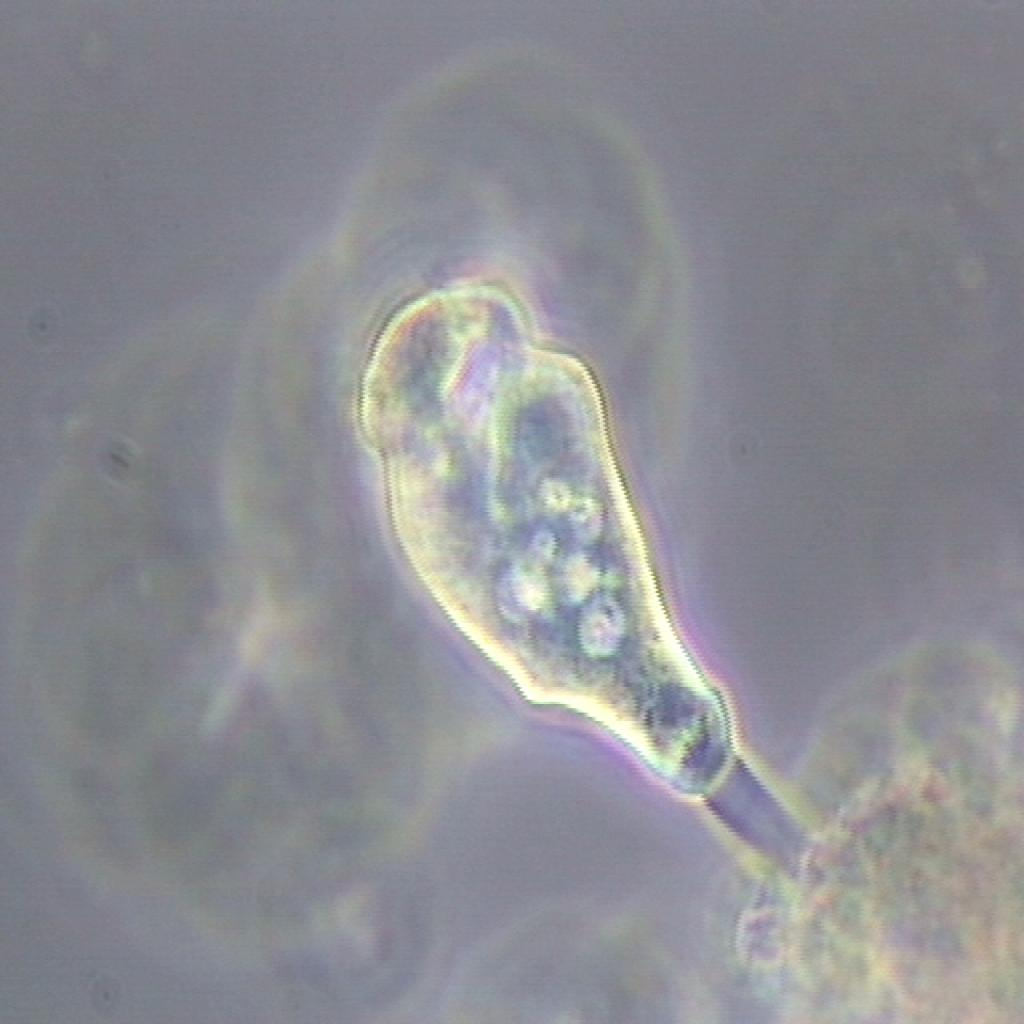Vorticella: (312, 266, 811, 912)
